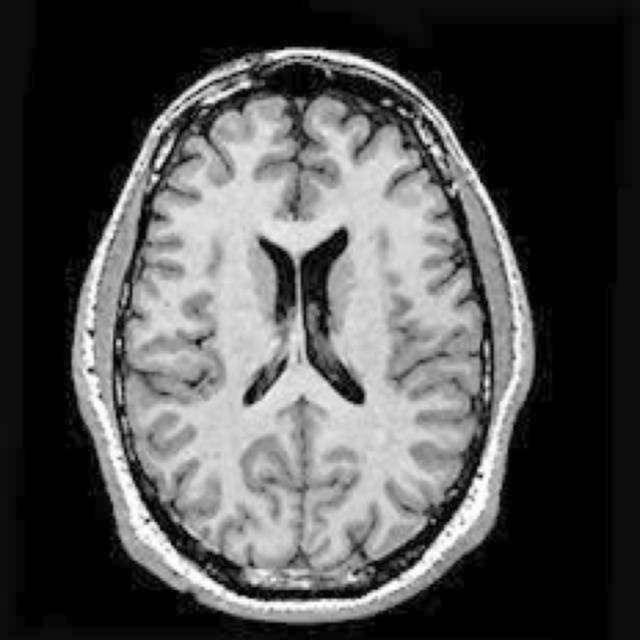glioma tumor: (163, 112, 436, 560)
